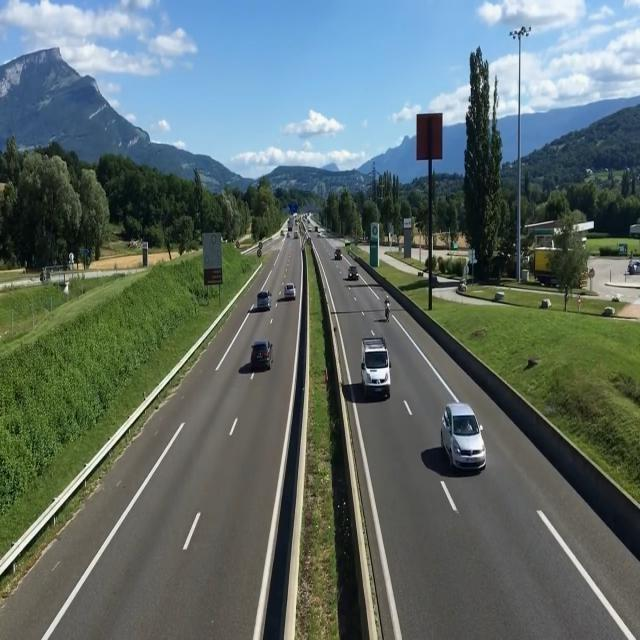Car: (440, 402, 486, 470), (250, 338, 272, 366), (255, 286, 272, 310), (283, 281, 298, 302), (332, 246, 345, 262), (348, 267, 359, 280)
Cycle: (382, 294, 394, 322)
Van: (359, 336, 392, 402)
